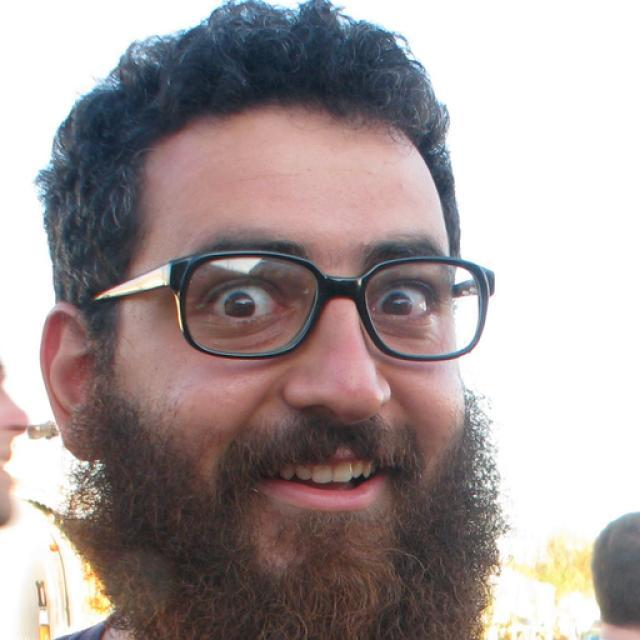surprise: (123, 101, 471, 592)
